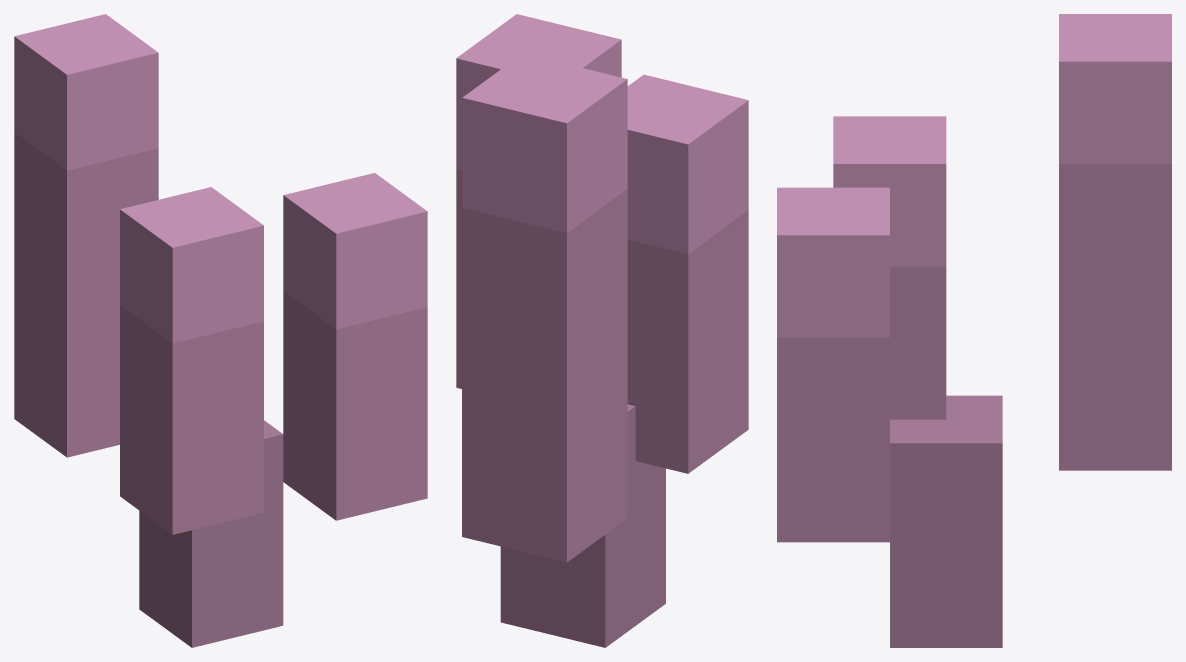
The model's file is coral_blando_08.glb.
3 views of the same model, side by side, from view 1: azimuth 30°, elevation 25°; view 2: azimuth 150°, elevation 25°; view 3: azimuth 270°, elevation 25° (orthographic). The views are drawn at different scales.
Parts seen in each view (by area): view 1: coral_blando_08; view 2: coral_blando_08; view 3: coral_blando_08.
Part boxes in pixels (bbox=[...]): coral_blando_08: bbox=[14, 14, 427, 647]; coral_blando_08: bbox=[456, 14, 748, 647]; coral_blando_08: bbox=[777, 14, 1171, 647].
Bounding box in the file's own units: 0.5 × 1.1 × 0.7.
